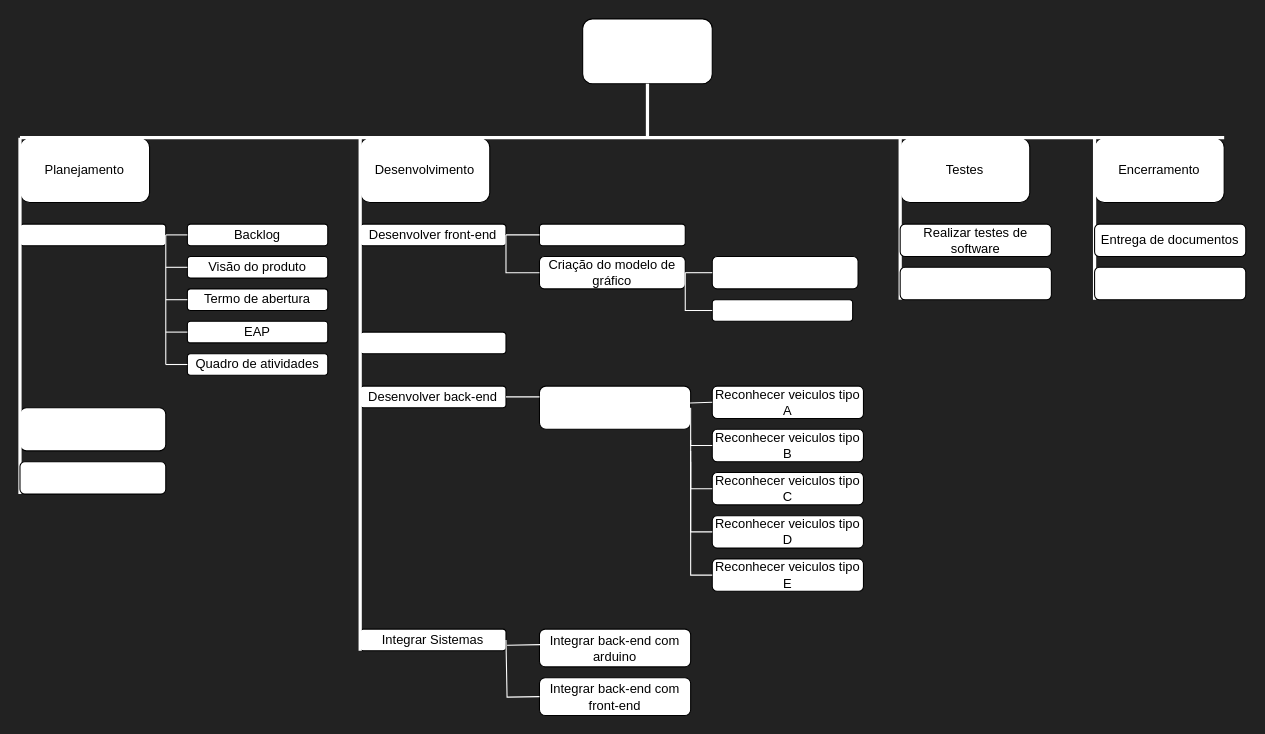
Some shapes in this 1265 by 734 pixel diagram are drawn without their labels. The centre of each missing label's shape, as x and y in pixels:
Adicionar elementos para dinamicidade: (784,272)
Adicionar filtros: (782,310)
Avaliação da banca avaliadora do PI: (1170,283)
Criação da página: (611,234)
Criação de documentos: (92,234)
Desenvolver programa para visão computacional: (614,407)
Estrutura do banco de dados: (92,429)
Levantamento de requisitos: (92,477)
Montagem do arduino: (432,342)
Realizar testes de hardware (arduino): (975,283)
Sistema Monitoramento Tráfego: (647,51)
